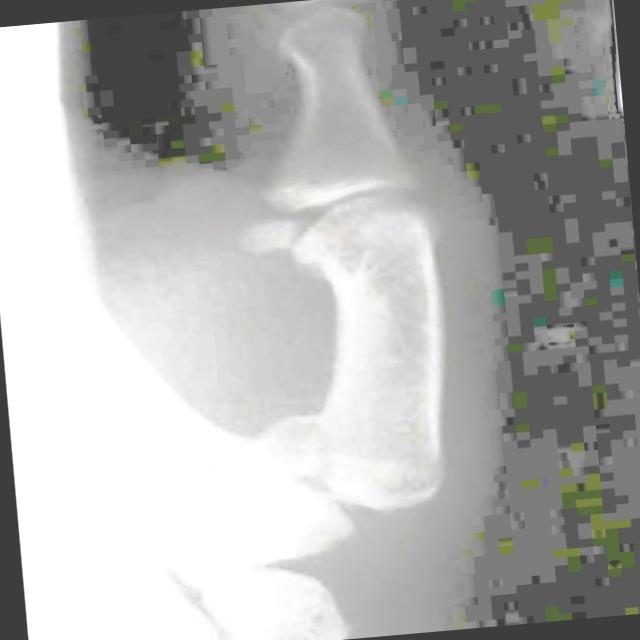Fracture Dislocation: (283, 427, 459, 524)
